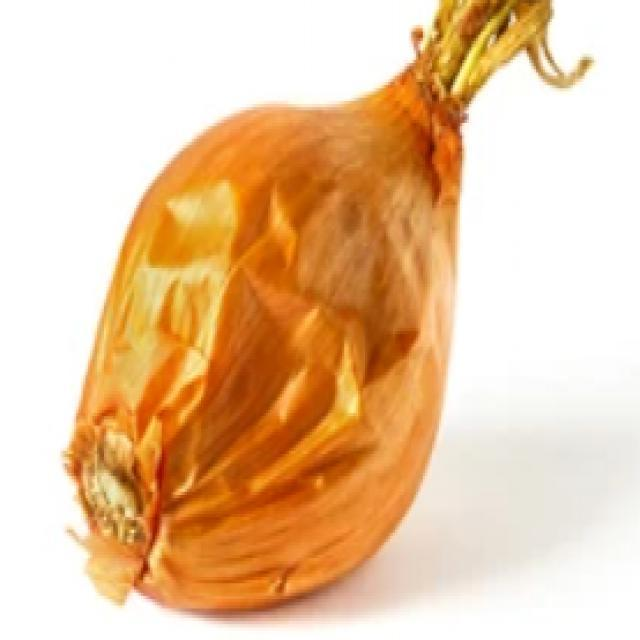sprouting: (386, 16, 527, 146)
